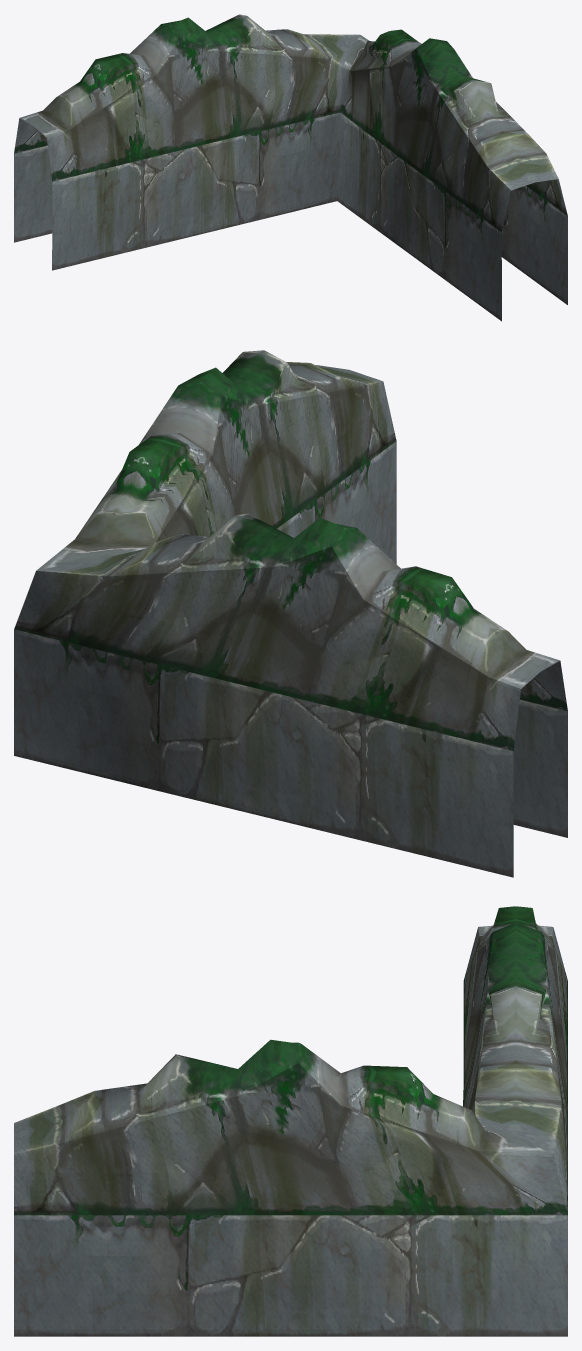
File: stemple_quarter_concave_03.fbx
3 renders of one model, top to bottom at view 1: azimuth 30°, elevation 25°; view 2: azimuth 150°, elevation 25°; view 3: azimuth 270°, elevation 25°, orthographic. The views are drawn at different scales.
Visible parts, largest first — view 1: stemple_quarter_concave_03-0; view 2: stemple_quarter_concave_03-0; view 3: stemple_quarter_concave_03-0.
Part boxes in pixels (<box>): stemple_quarter_concave_03-0: <box>14,14,567,321</box>; stemple_quarter_concave_03-0: <box>14,350,567,877</box>; stemple_quarter_concave_03-0: <box>14,906,567,1336</box>.
Bounding box in the file's own units: 4.42 × 2.42 × 4.42.
